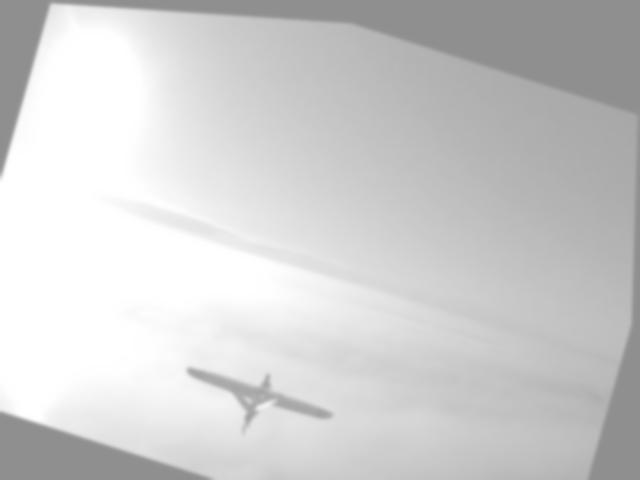hedef: (160, 321, 354, 466)
